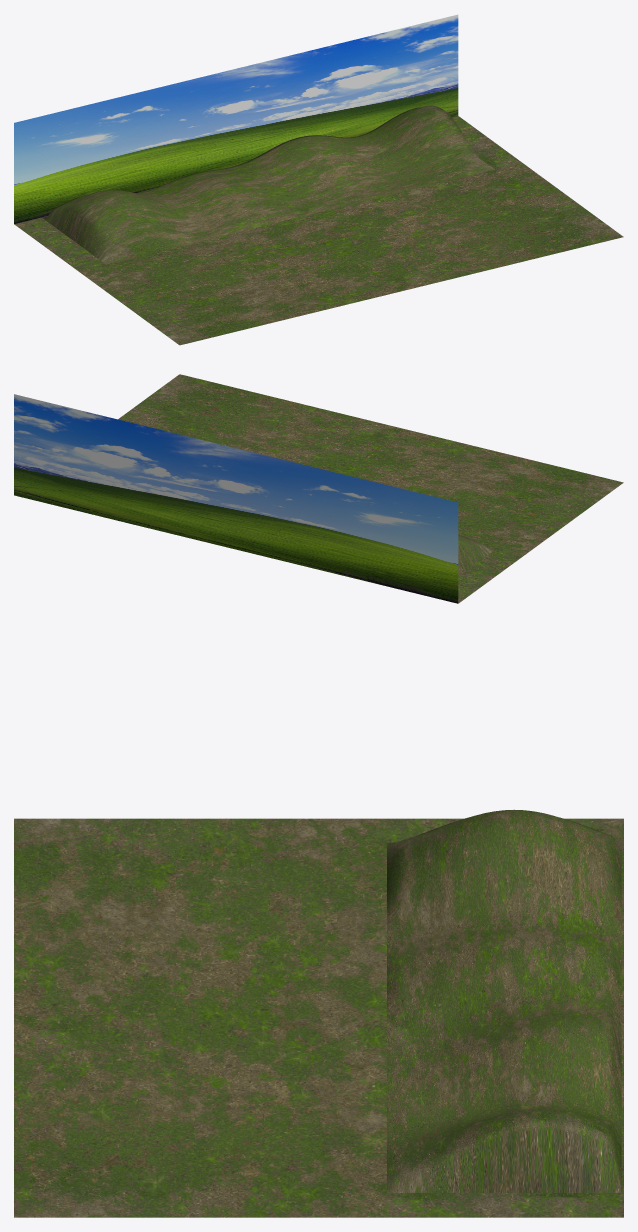
File: Level_Plains.fbx
3 views of the same model, one above another, from view 1: azimuth 30°, elevation 25°; view 2: azimuth 150°, elevation 25°; view 3: azimuth 270°, elevation 25° (orthographic). The views are drawn at different scales.
Parts seen in each view (by area): view 1: Floor, Background, pPlane1; view 2: Background, Floor, pPlane1; view 3: Floor, pPlane1.
Part boxes in pixels (x1,y1,x2,y2): Floor: (14,116,623,345); Background: (14,14,458,223); pPlane1: (42,105,494,264); Background: (14,394,458,603); Floor: (118,374,623,603); pPlane1: (458,534,494,576); Floor: (14,818,623,1217); pPlane1: (387,809,621,1192).
Size of the model in its own units: 628 by 137 by 405.
